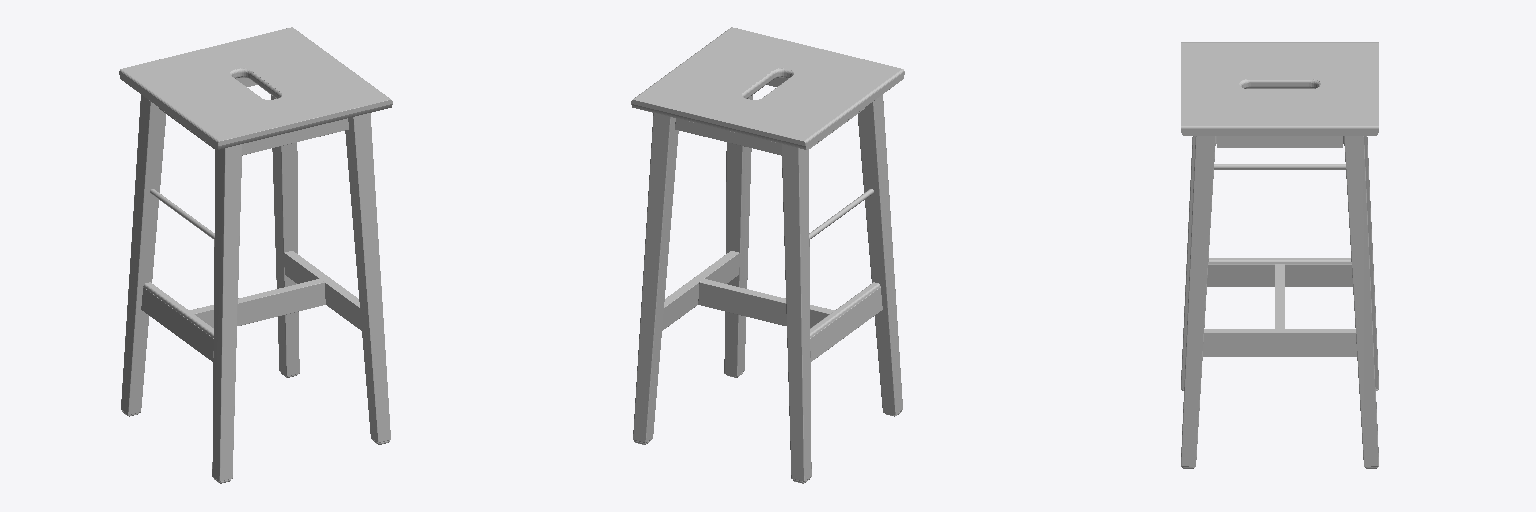
The model's file is nilsolle.obj.
3 views of the same model, side by side, from view 1: azimuth 30°, elevation 25°; view 2: azimuth 150°, elevation 25°; view 3: azimuth 270°, elevation 25° (orthographic).
Visible parts, largest first — view 1: NILSOLLE_stool_Plane.021; view 2: NILSOLLE_stool_Plane.021; view 3: NILSOLLE_stool_Plane.021.
Part boxes in pixels (bbox=[...]): NILSOLLE_stool_Plane.021: bbox=[119, 27, 392, 483]; NILSOLLE_stool_Plane.021: bbox=[631, 27, 904, 483]; NILSOLLE_stool_Plane.021: bbox=[1181, 42, 1378, 468].
Size of the model in its own units: 1.39 by 2.62 by 1.37.